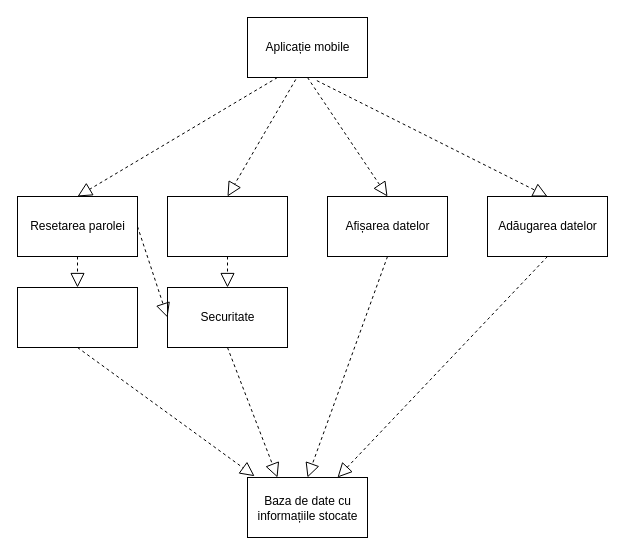
Some shapes in this 625 by 555 pixel diagram are drawn without their labels. Each missing label, with the box of its shape:
Autentificare: (166, 196, 288, 256)
Email: (16, 286, 138, 348)
